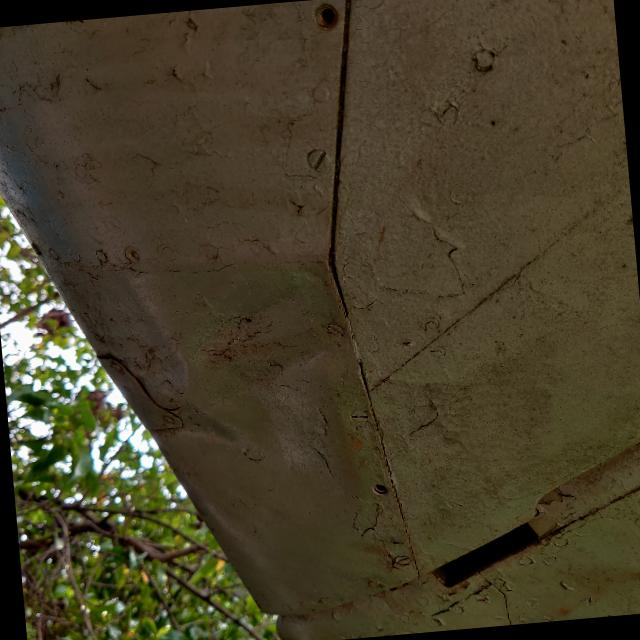dent: (122, 222, 376, 464)
